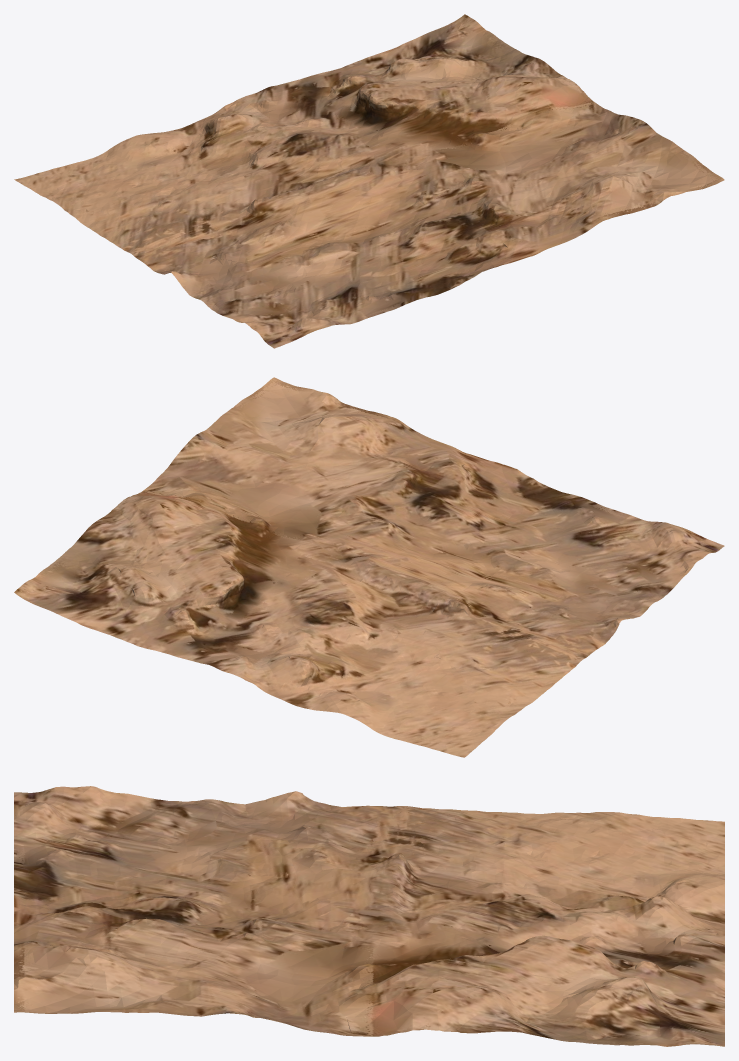
3 renders of one model, top to bottom at view 1: azimuth 30°, elevation 25°; view 2: azimuth 150°, elevation 25°; view 3: azimuth 270°, elevation 25°, orthographic. The views are drawn at different scales.
Size of the model in its own units: 2.09 by 0.3609 by 2.09.
Materials: 2 (2 with a texture image).
